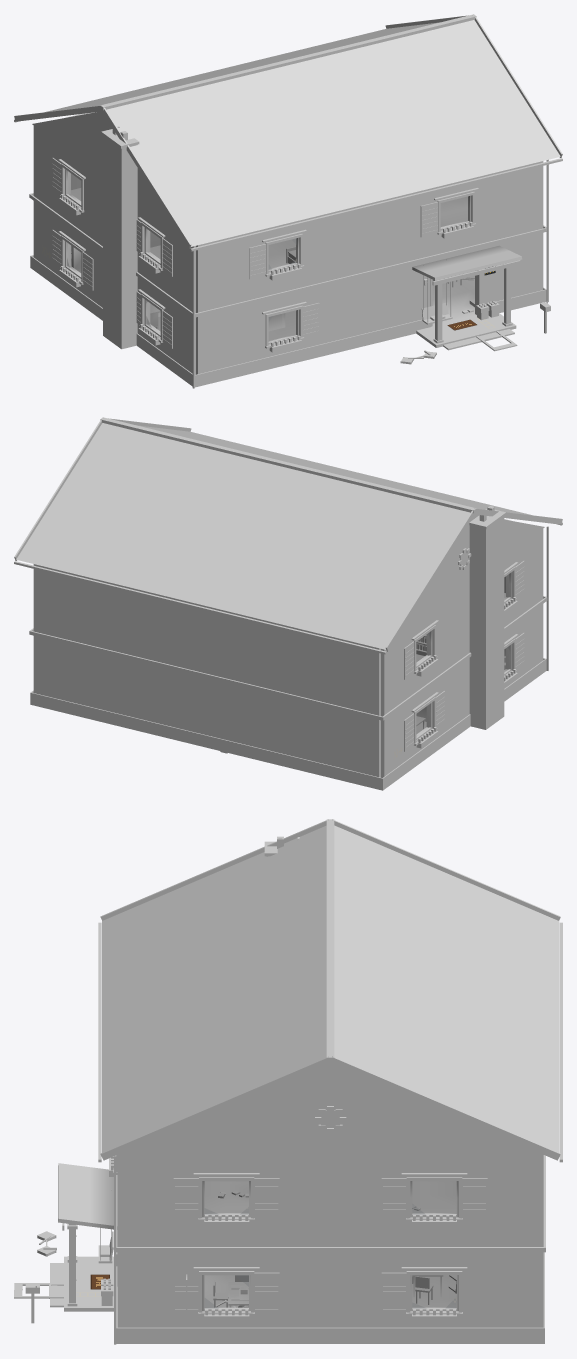
File: big_house_2.glb
3 renders of one model, top to bottom at view 1: azimuth 30°, elevation 25°; view 2: azimuth 150°, elevation 25°; view 3: azimuth 270°, elevation 25°, orthographic. The views are drawn at different scales.
Visible parts, largest first — view 1: big_house_2; view 2: big_house_2; view 3: big_house_2.
Boxes of the visible parts, x1,y1,x2,y2 form: big_house_2: [14, 14, 562, 388]; big_house_2: [14, 417, 562, 790]; big_house_2: [14, 819, 562, 1344].
Bounding box in the file's own units: 16.55 × 9.58 × 15.85.
Materials: 4 (3 with a texture image).
